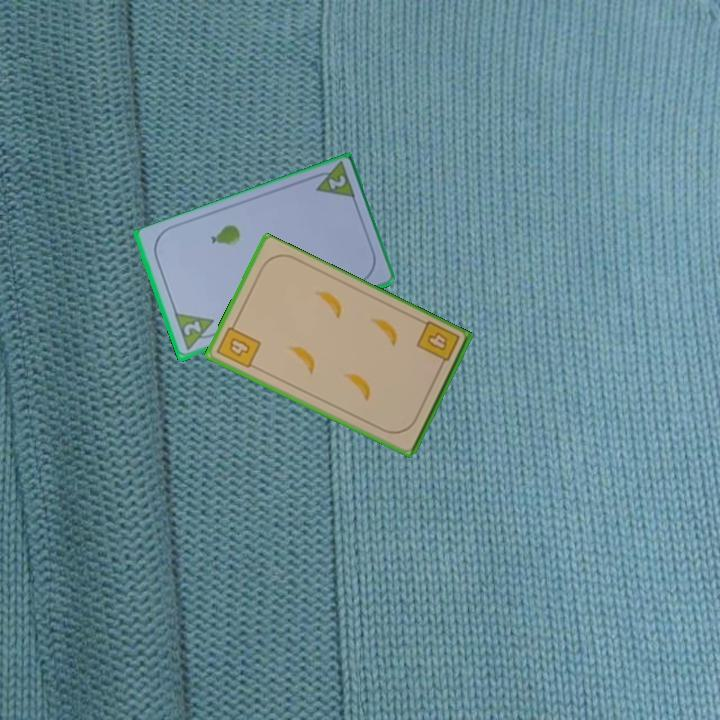2p: (171, 310, 221, 354), (307, 160, 358, 203)
4b: (213, 318, 264, 371), (413, 318, 463, 372)
